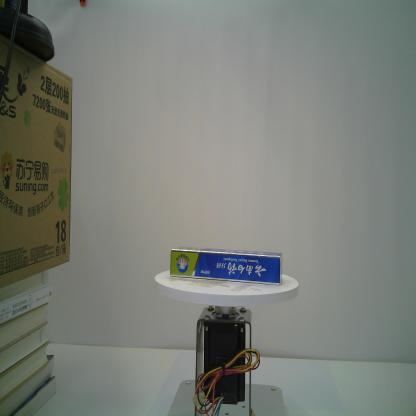Personal Hygiene: (169, 246, 284, 286)
